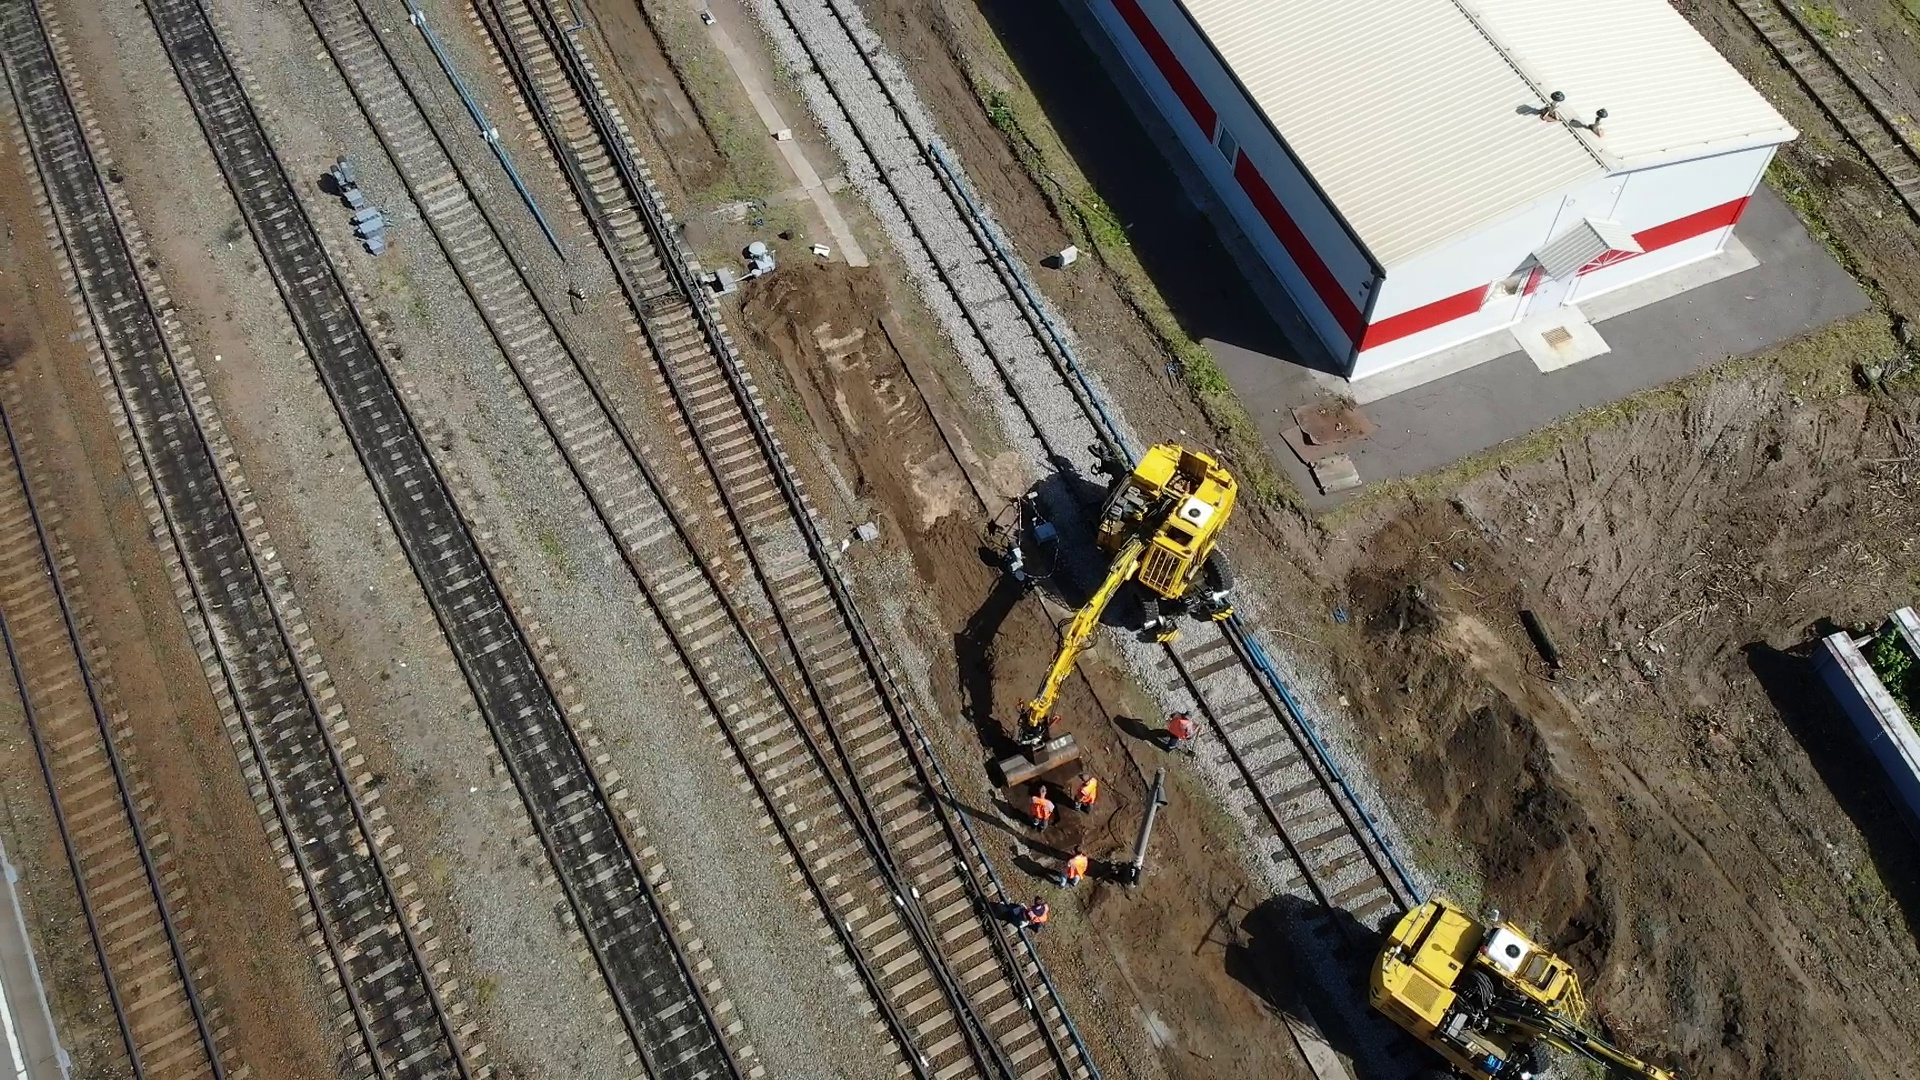kjtv: (1363, 889, 1586, 1073), (1099, 447, 1245, 632)
